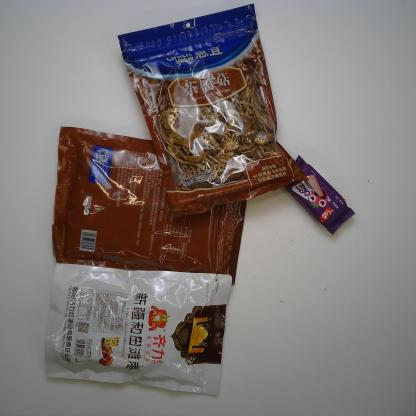Dessert: (281, 154, 360, 235)
Dried Food: (116, 1, 309, 220), (51, 122, 251, 290), (43, 262, 233, 401)
